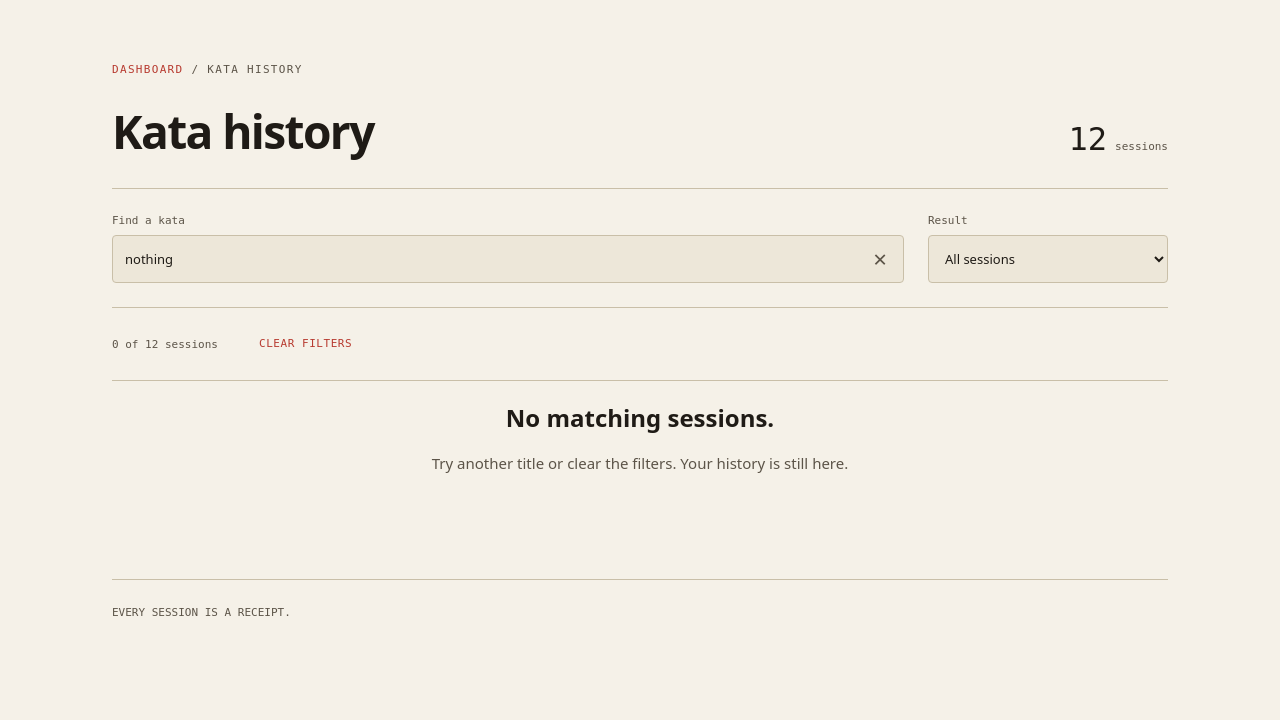
Test: HistoryPage › tells a search with no match from an empty record, and clears back to the record
Expected: the heading "No matching sessions." is shown, [506,401,774,434]
Expected: the text "0 of 12 sessions" is shown, [112,336,218,353]
Click the button "Clear filters".
click(306, 344)  # box [234,322,377,366]
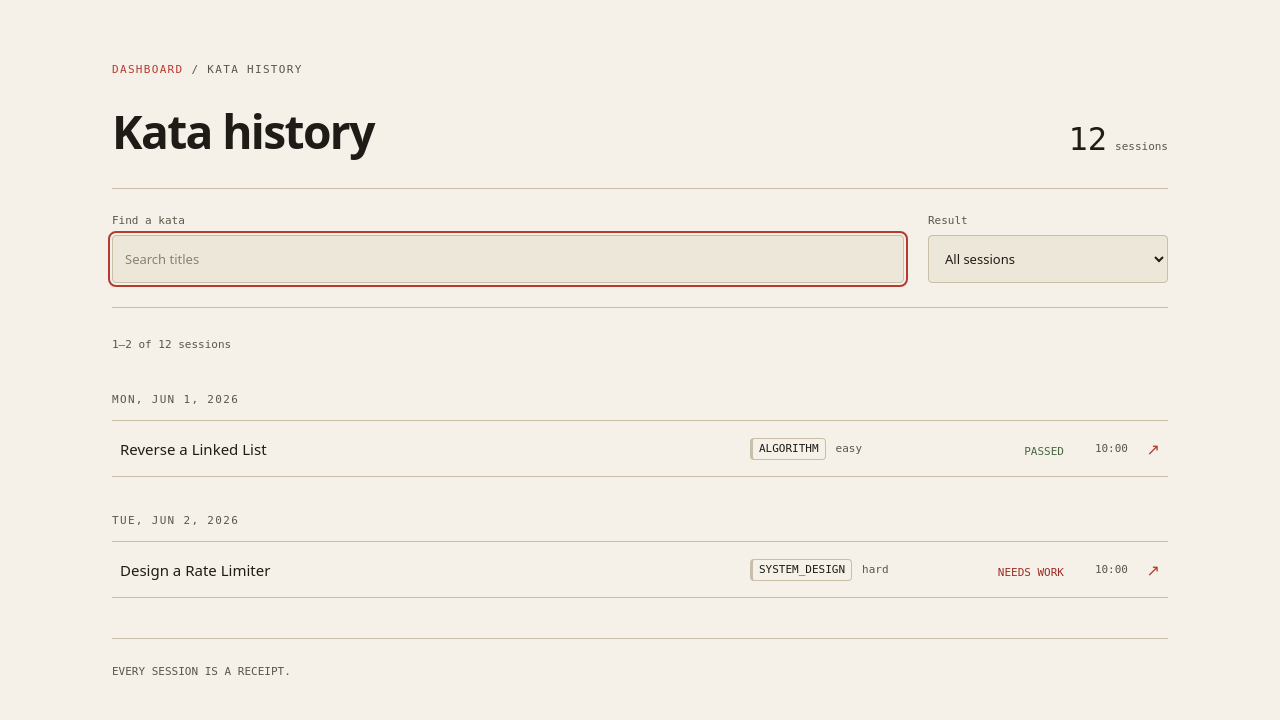
Result: the text "Reverse a Linked List" is shown at [120,439,267,459]
Result: the search field labelled "Find a kata" is empty at [112,235,904,283]
